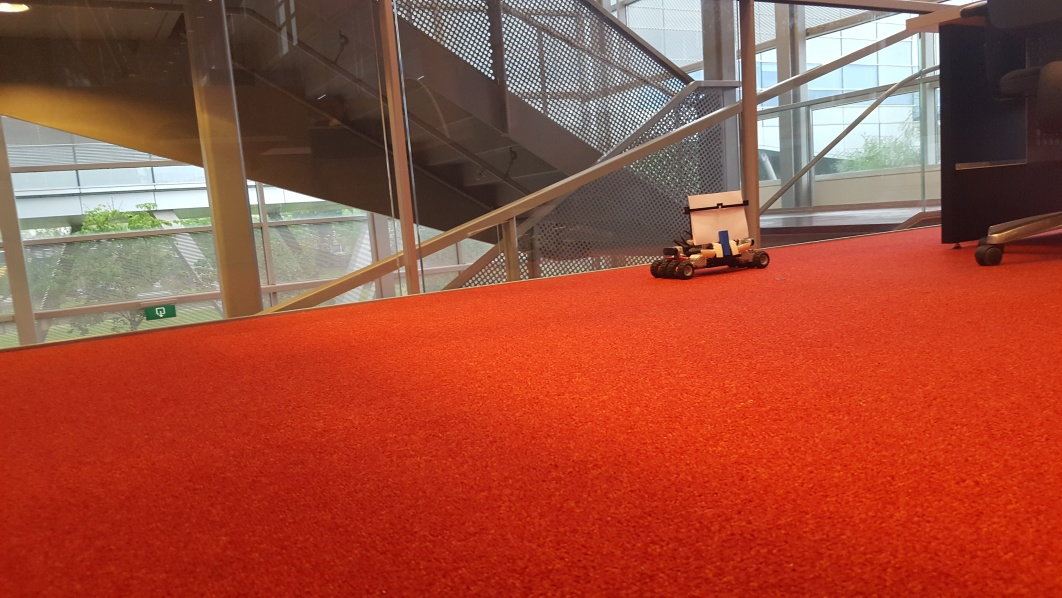car: (649, 189, 772, 282)
